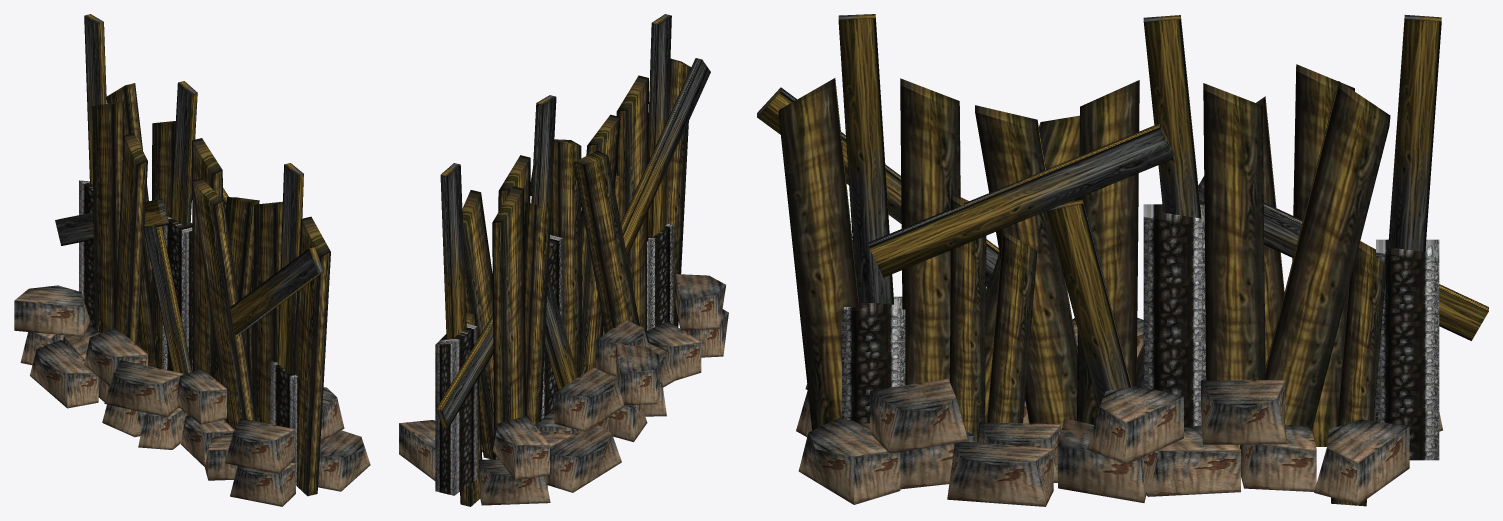
The model's file is CB_WOOD_BARACADE02.fbx.
The picture shows the model from 3 angles, left to right: view 1: azimuth 30°, elevation 25°; view 2: azimuth 150°, elevation 25°; view 3: azimuth 270°, elevation 25°; orthographic projection. The views are drawn at different scales.
Parts seen in each view (by area): view 1: CB_WOOD_BARACADE02; view 2: CB_WOOD_BARACADE02; view 3: CB_WOOD_BARACADE02.
Boxes of the visible parts, box(x1,y1,x2,y2) form: CB_WOOD_BARACADE02: box(14, 14, 370, 506); CB_WOOD_BARACADE02: box(399, 14, 728, 506); CB_WOOD_BARACADE02: box(757, 14, 1488, 506).
Size of the model in its own units: 21865 by 41070 by 56301.
Materials: 4 (4 with a texture image).
